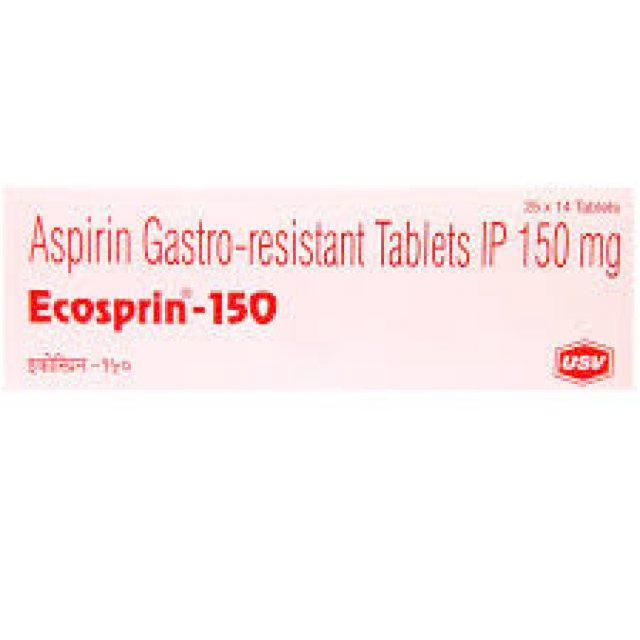authentic: (2, 183, 640, 400)
